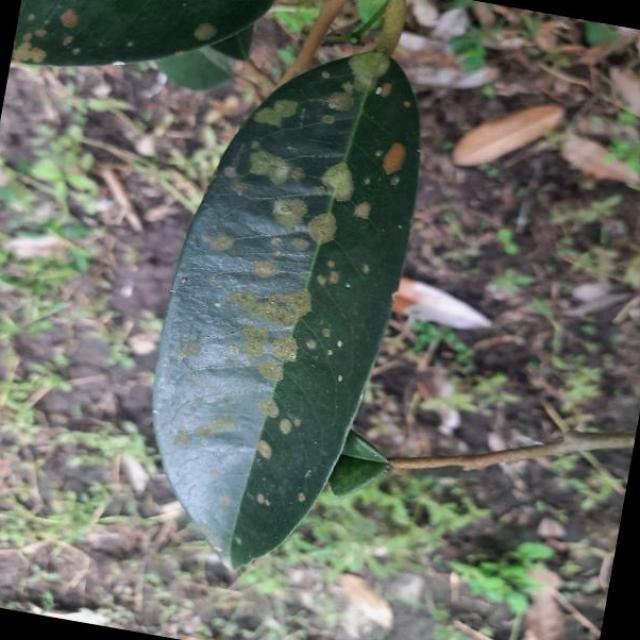Algal Leaf Spot: (111, 11, 448, 602)
